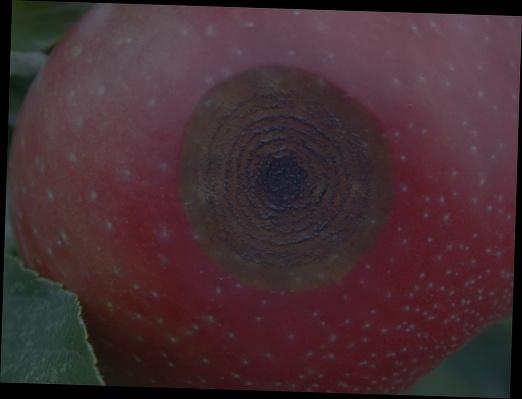rotten apple: (11, 10, 510, 386)
